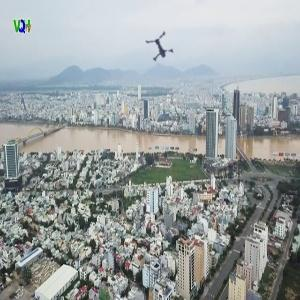drone: (144, 33, 181, 70)
